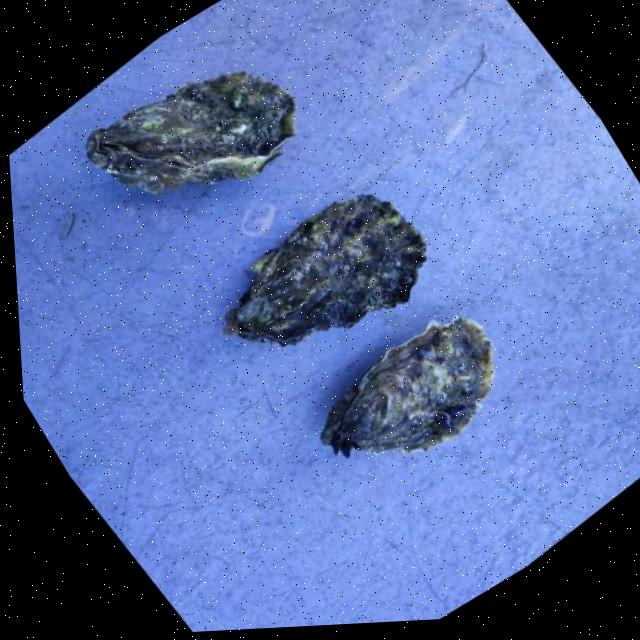Oyster-Open: (224, 194, 425, 344), (86, 71, 295, 193), (320, 316, 493, 456)
